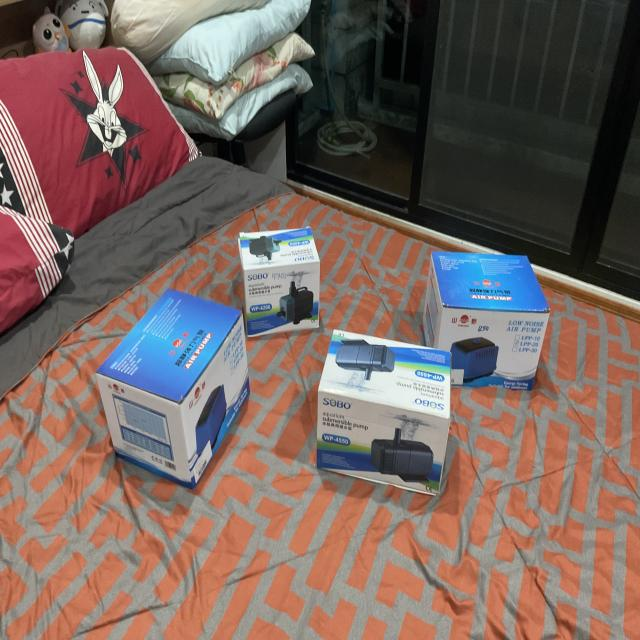SOBO_WP_4200: (311, 325, 459, 511), (234, 221, 328, 342)
YAMANO_LPP_20: (94, 278, 257, 490), (416, 241, 559, 397)
